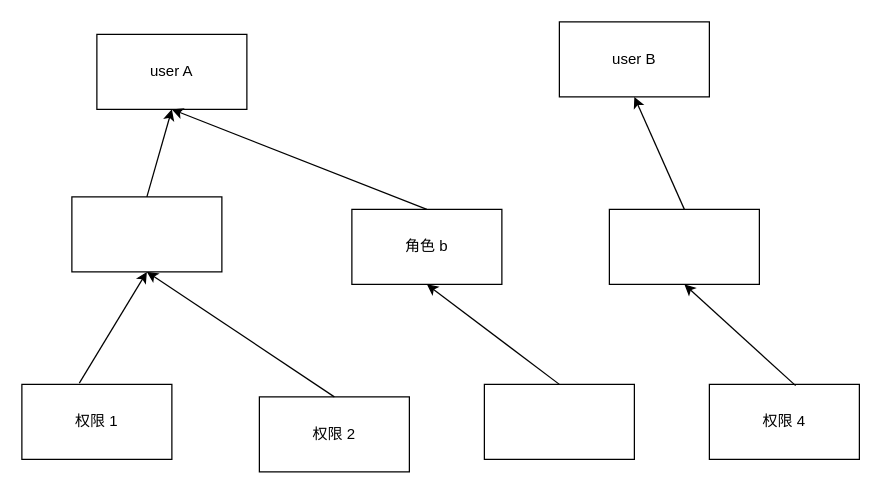
The diagram is 881 pixels wide and 494 high, and some of its shapes have lost their labels. The box of each missing label's shape, as (x1, y1, x2, y2) in pixels:
权限 3: (483, 383, 634, 459)
角色 a: (71, 196, 222, 272)
角色 c: (608, 208, 759, 284)
